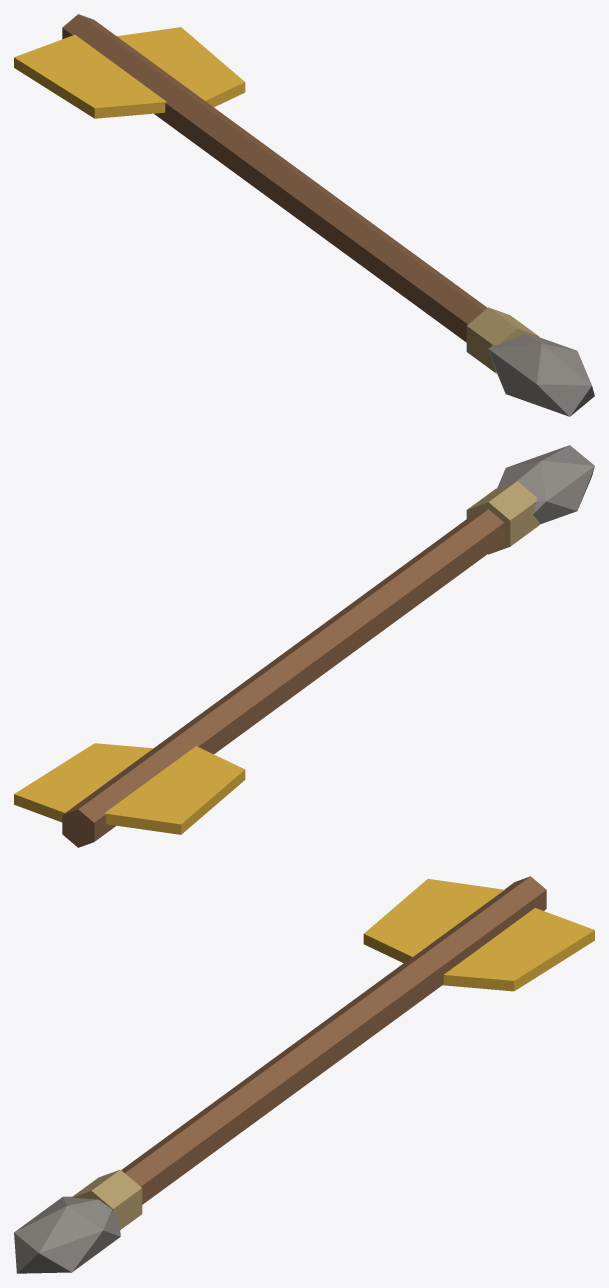
File: yt_arrow.glb
3 views of the same model, one above another, from view 1: azimuth 30°, elevation 25°; view 2: azimuth 150°, elevation 25°; view 3: azimuth 330°, elevation 25° (orthographic).
Visible parts, largest first — view 1: yt_arrow_mesh; view 2: yt_arrow_mesh; view 3: yt_arrow_mesh.
Part boxes in pixels (left/top/right/bottom): yt_arrow_mesh: left=14, top=14, right=594, bottom=416; yt_arrow_mesh: left=14, top=445, right=594, bottom=847; yt_arrow_mesh: left=14, top=876, right=594, bottom=1273.
Bounding box in the file's own units: 0.2 × 0.066 × 1.04.
